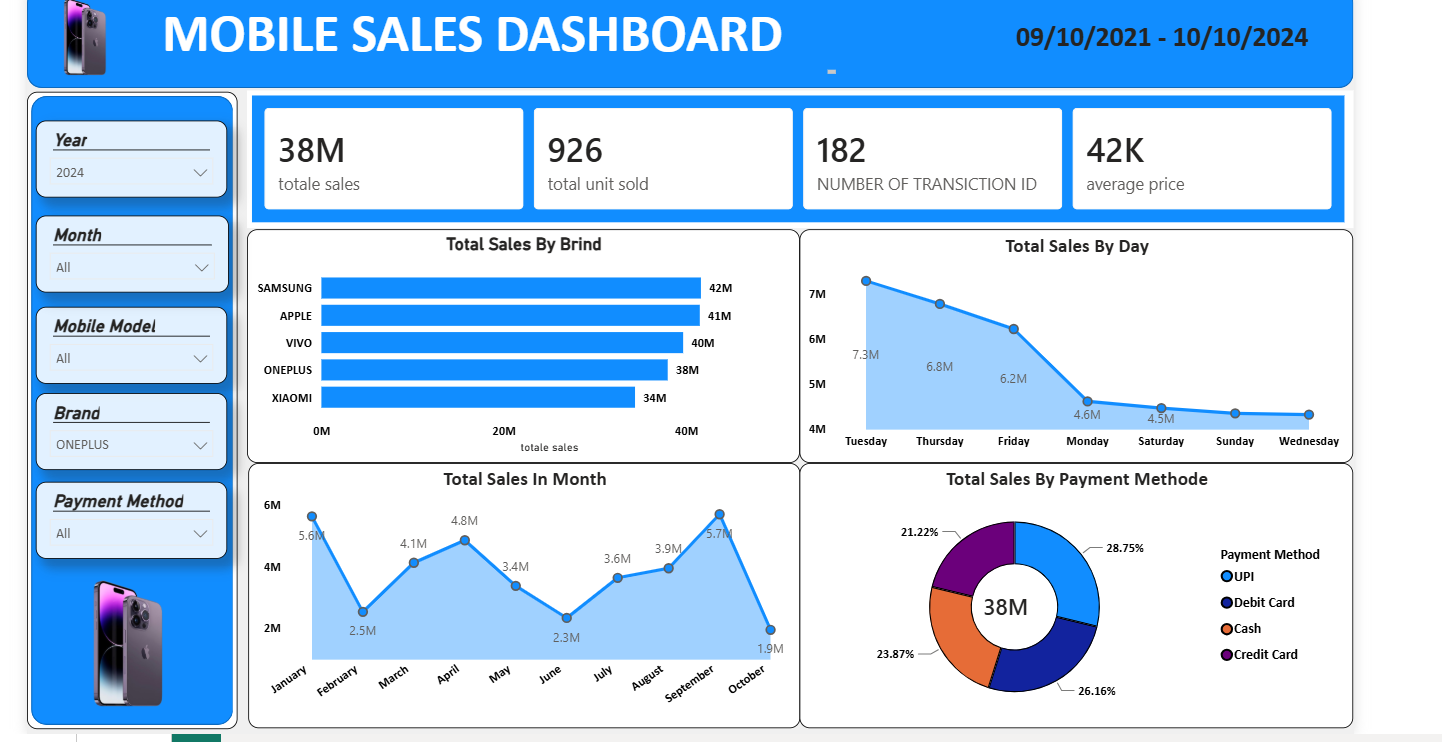

The dashboard page shown, as its layout file describes it:
{"tool":"powerbi","page":{"name":"Page 2","canvas":[1280,720],"ordinal":0},"visuals":[{"type":"group","id":"g1","title":"Group 2","box":[0,100.3,203,615.1],"z":0},{"type":"shape","box":[0,100.3,203,615.1],"z":0,"group":"g1"},{"type":"group","id":"g2","title":"Group 1","box":[0,0,1280.3,96.6],"z":1000},{"type":"shape","box":[0,0,1280.3,96.6],"z":2000,"group":"g2"},{"type":"cardVisual","fields":{"Data":["MOBILE SELES DATA.totale sales","MOBILE SELES DATA.total unit sold","MOBILE SELES DATA.NUMBER OF TRANSICTION ID","MOBILE SELES DATA.average price"]},"box":[212.2,99.1,1067.8,133],"z":2000},{"type":"textbox","title":" MOBILE SALES DASHBOARD","box":[125.5,10.9,659.9,77.2],"z":3000,"group":"g2"},{"type":"slicer","fields":{"Values":["MOBILE SELES DATA.Mobile Model"]},"box":[8.6,307.8,185.1,74.3],"z":3000},{"type":"textbox","box":[941.3,24.8,309,44.3],"z":4000,"group":"g2"},{"type":"slicer","fields":{"Values":["MOBILE SELES DATA.Brand"]},"box":[8.6,391.2,185.1,74.3],"z":4000},{"type":"image","box":[0,0,112.2,96.5],"z":5000,"group":"g2"},{"type":"slicer","fields":{"Values":["MOBILE SELES DATA.Payment Method"]},"box":[8.6,476,185.1,74.3],"z":5000},{"type":"barChart","title":"Total Sales By Brind","fields":{"Category":["MOBILE SELES DATA.Brand"],"Y":["MOBILE SELES DATA.totale sales"]},"box":[212.5,233.4,533.2,225.5],"z":6000},{"type":"stackedAreaChart","title":"Total Sales By Day","fields":{"Category":["CUSTOM CALENDER.Day Name"],"Y":["MOBILE SELES DATA.totale sales"]},"box":[745.5,232.8,534.5,225.6],"z":7000},{"type":"slicer","fields":{"Values":["CUSTOM CALENDER.DATE.Variation.Date Hierarchy.Year"]},"box":[8.6,127.9,185.1,74.3],"z":8000},{"type":"slicer","fields":{"Values":["CUSTOM CALENDER.DATE.Variation.Date Hierarchy.Month"]},"box":[8,219.1,186.4,74.3],"z":9000},{"type":"areaChart","title":"Total Sales In Month","fields":{"Category":["CUSTOM CALENDER.DATE.Variation.Date Hierarchy.Month"],"Y":["MOBILE SELES DATA.totale sales"]},"box":[213,459,533,256],"z":10000},{"type":"donutChart","title":"Total Sales By Payment Methode","fields":{"Category":["MOBILE SELES DATA.Payment Method"],"Y":["MOBILE SELES DATA.totale sales"]},"box":[745.5,458.4,534.5,255.8],"z":11000},{"type":"image","box":[13.3,555,168.9,159.3],"z":12000},{"type":"cardVisual","fields":{"Data":["MOBILE SELES DATA.totale sales"]},"box":[894,550.1,142.4,90.5],"z":13000}]}

Visuals, with their boxes on the page's 1280x720 design canvas (x1, y1, x2, y2). These are canvas units, not pixel positions in the 1442x742 screenshot, which may show the page scaled, cropped or inside an application window:
"Group 2" group: left=0, top=100, right=203, bottom=715
shape: left=0, top=100, right=203, bottom=715
"Group 1" group: left=0, top=0, right=1280, bottom=97
shape: left=0, top=0, right=1280, bottom=97
cardVisual - MOBILE SELES DATA.totale sales x MOBILE SELES DATA.total unit sold: left=212, top=99, right=1280, bottom=232
" MOBILE SALES DASHBOARD" textbox: left=126, top=11, right=785, bottom=88
slicer - MOBILE SELES DATA.Mobile Model: left=9, top=308, right=194, bottom=382
textbox: left=941, top=25, right=1250, bottom=69
slicer - MOBILE SELES DATA.Brand: left=9, top=391, right=194, bottom=466
image: left=0, top=0, right=112, bottom=96
slicer - MOBILE SELES DATA.Payment Method: left=9, top=476, right=194, bottom=550
"Total Sales By Brind" barChart: left=212, top=233, right=746, bottom=459
"Total Sales By Day" stackedAreaChart: left=746, top=233, right=1280, bottom=458
slicer - CUSTOM CALENDER.DATE.Variation.Date Hierarchy.Year: left=9, top=128, right=194, bottom=202
slicer - CUSTOM CALENDER.DATE.Variation.Date Hierarchy.Month: left=8, top=219, right=194, bottom=293
"Total Sales In Month" areaChart: left=213, top=459, right=746, bottom=715
"Total Sales By Payment Methode" donutChart: left=746, top=458, right=1280, bottom=714
image: left=13, top=555, right=182, bottom=714
cardVisual - MOBILE SELES DATA.totale sales: left=894, top=550, right=1036, bottom=641
